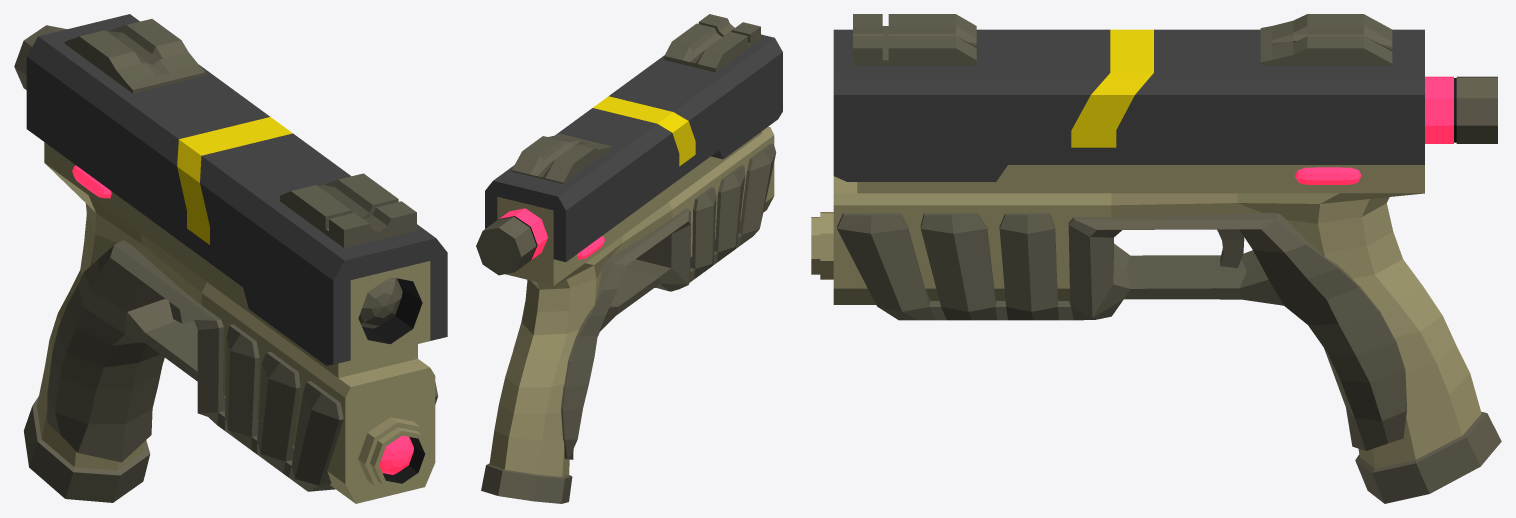
Rendered from Cyber_HandGun.fbx.
3 views of the same model, side by side, from view 1: azimuth 30°, elevation 25°; view 2: azimuth 150°, elevation 25°; view 3: azimuth 270°, elevation 25° (orthographic). The views are drawn at different scales.
Visible parts, largest first — view 1: Cube.004, Cube.005, Sphere.001, Cube.003; view 2: Cube.004, Cube.005, Cube.003; view 3: Cube.004, Cube.005, Cube.003, Cube.006.
Boxes of the visible parts, left/top/right/bottom form: Cube.004: left=24, top=142, right=437, bottom=503; Cube.005: left=26, top=14, right=447, bottom=365; Sphere.001: left=358, top=277, right=402, bottom=328; Cube.003: left=14, top=25, right=66, bottom=89; Cube.004: left=481, top=126, right=776, bottom=503; Cube.005: left=485, top=14, right=782, bottom=262; Cube.003: left=476, top=208, right=547, bottom=275; Cube.004: left=811, top=165, right=1501, bottom=503; Cube.005: left=833, top=14, right=1424, bottom=181; Cube.003: left=1425, top=76, right=1497, bottom=143; Cube.006: left=1217, top=229, right=1244, bottom=267.
Bounding box in the file's own units: 43.17 × 164 × 223.
